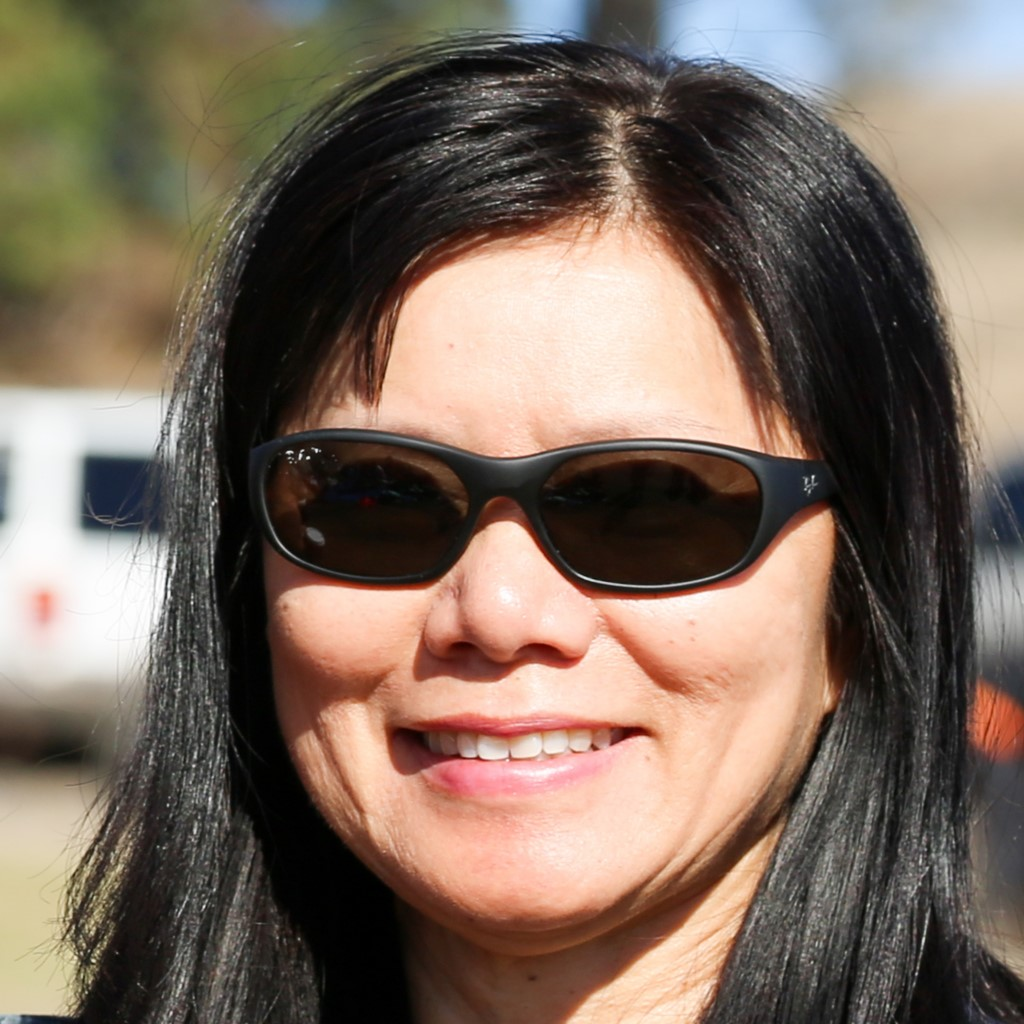sin_mascara: (240, 189, 835, 944)
